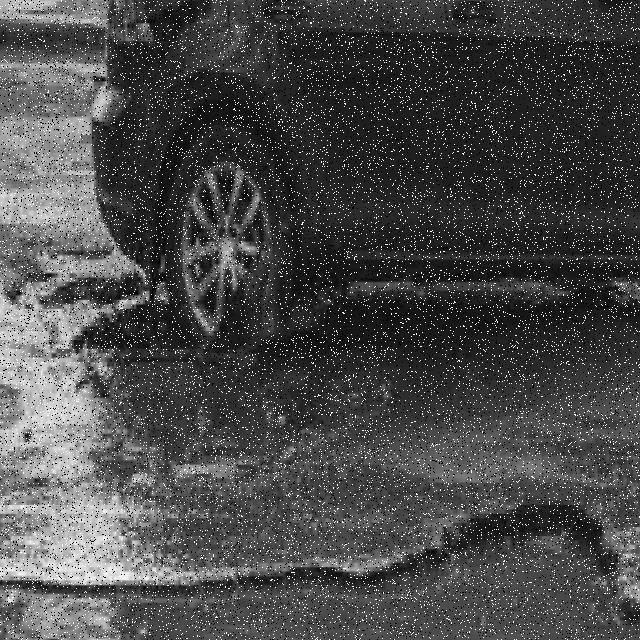pothole: (0, 500, 640, 640)
